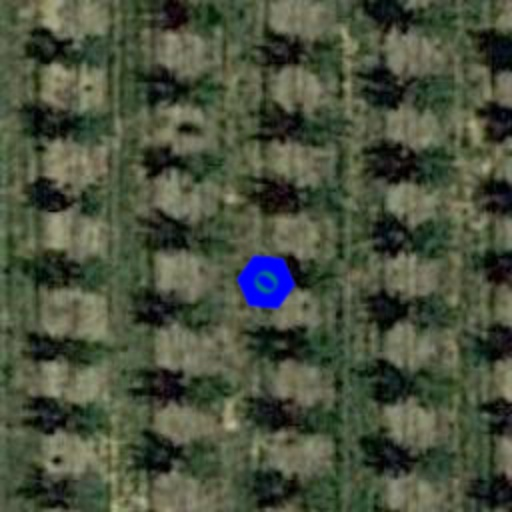hexagon: (224, 240, 308, 324)
